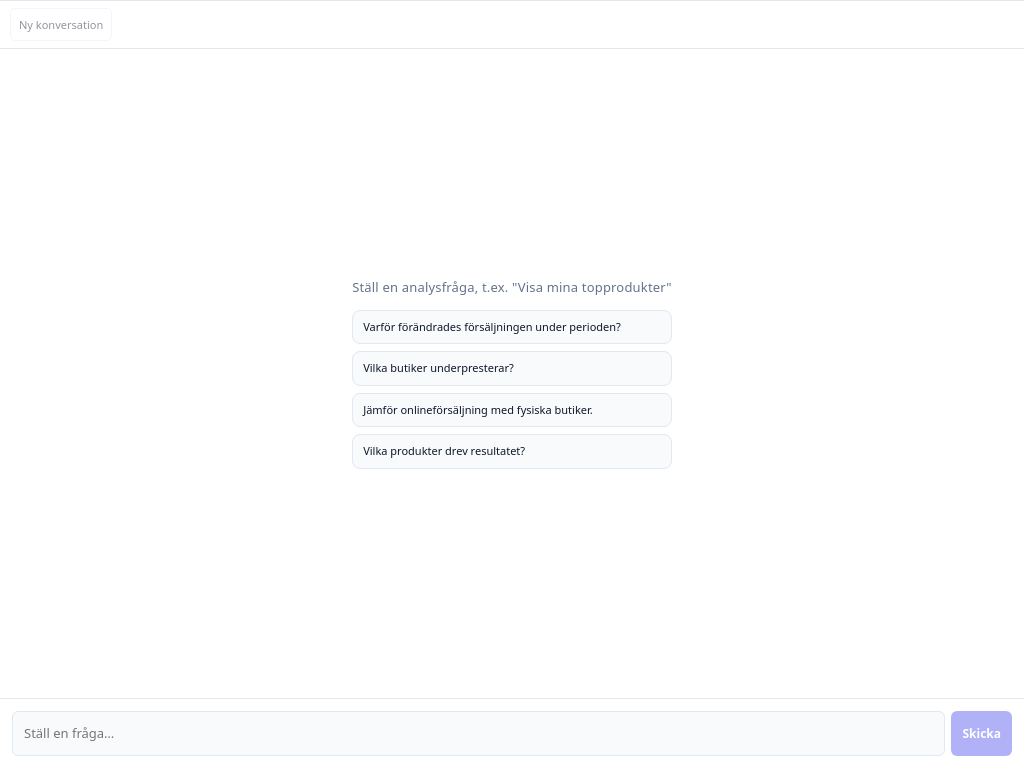
Scenario: ChatPanel › submits to POST /agent/query without supplier and with null conversation_id first
Type "best product?" into the field.
click(479, 733); type("best product?")  # box [12, 711, 945, 756]
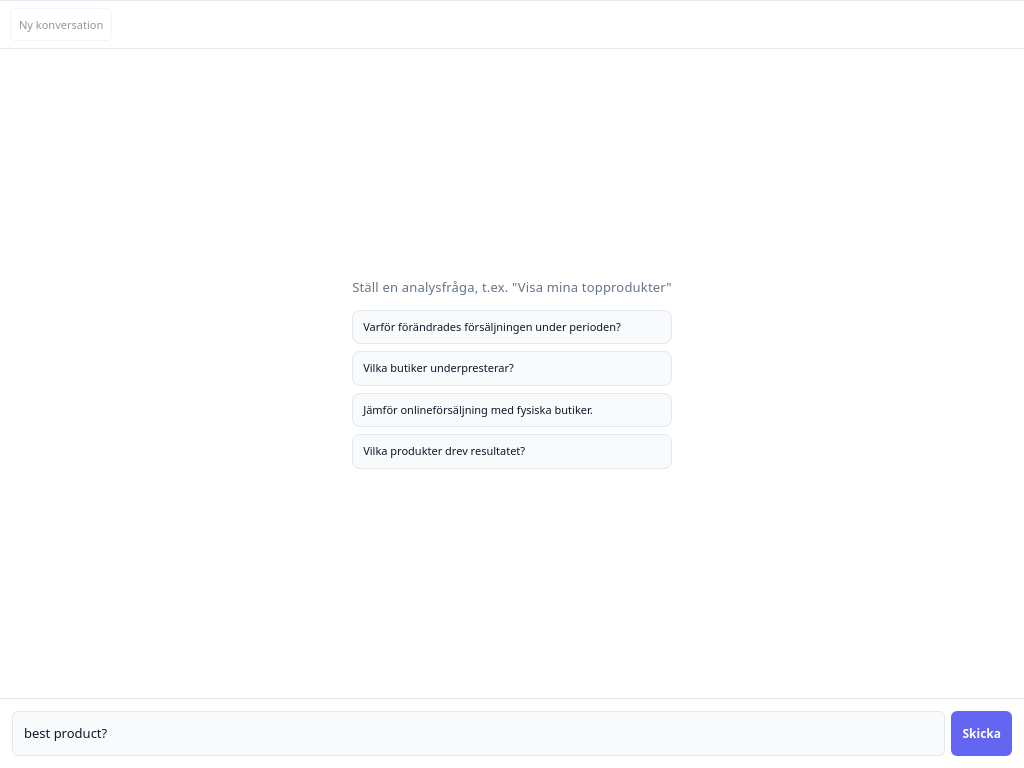
Submit the form, box [0, 698, 1023, 767]
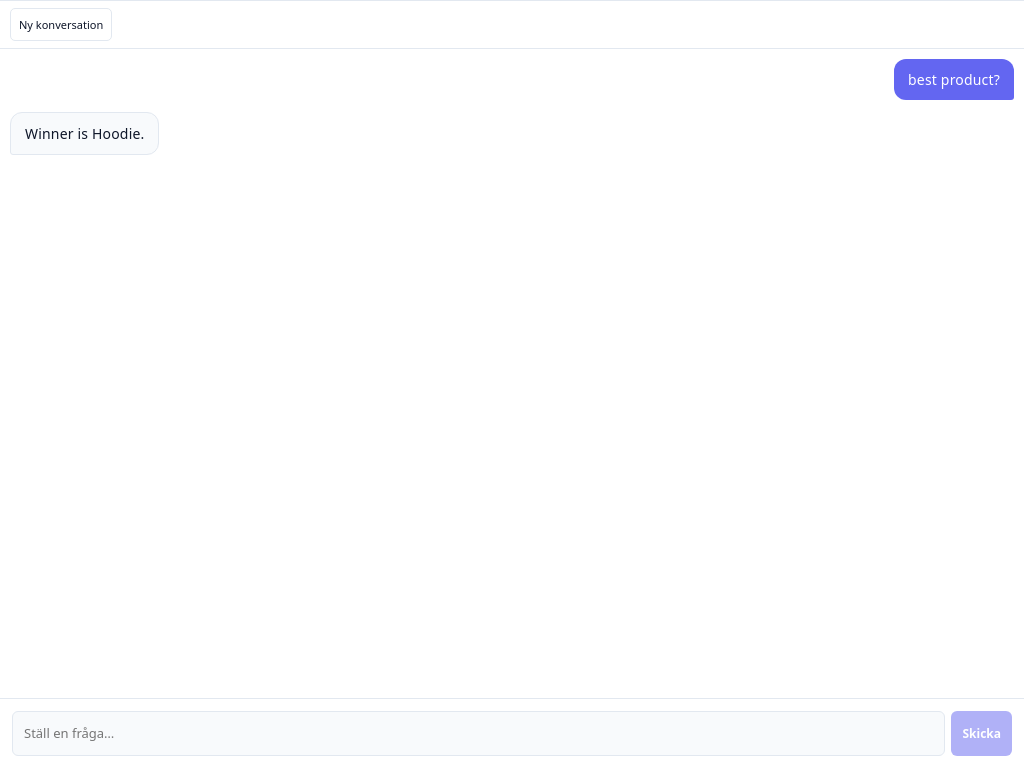
Check: the text "Winner is Hoodie." is shown, box [25, 123, 144, 144]
Check: the text "best product?" is shown, box [894, 59, 1014, 100]
